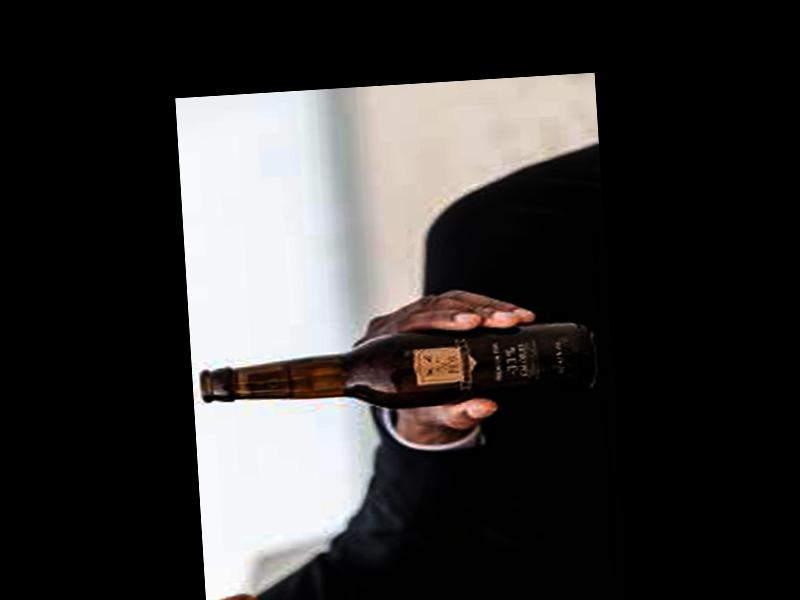Beer: (198, 319, 599, 417)
